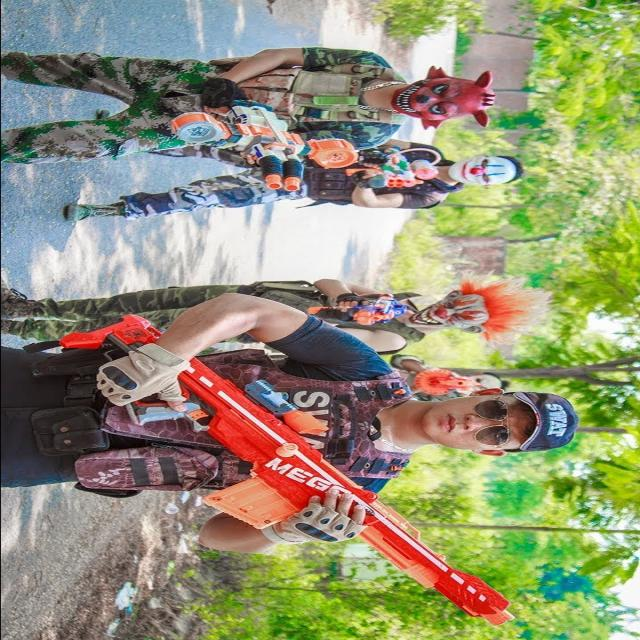Nerf gun: (46, 309, 523, 630), (161, 85, 358, 195), (308, 286, 414, 332), (345, 143, 443, 190), (400, 358, 485, 398)
